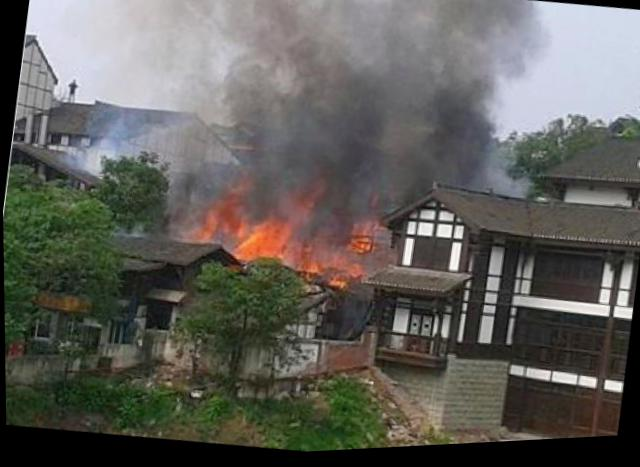fire: (236, 210, 302, 267), (299, 256, 367, 281), (347, 221, 376, 257), (324, 275, 351, 295)
smoke: (89, 0, 535, 211)
